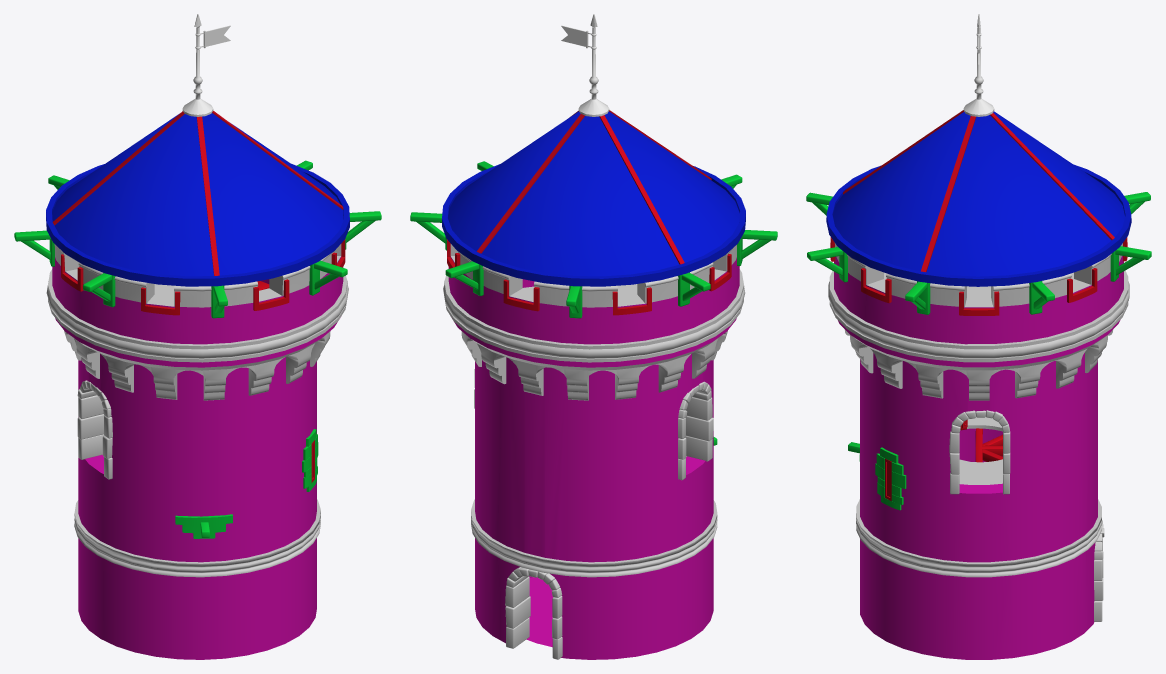
Rendered from Tower_1.fbx.
3 views of the same model, side by side, from view 1: azimuth 30°, elevation 25°; view 2: azimuth 150°, elevation 25°; view 3: azimuth 270°, elevation 25° (orthographic).
Parts seen in each view (by area): view 1: Tower_1.004, Group_4.010, Group_4.011, Group_2, Group_2.007; view 2: Tower_1.004, Group_4.010, Group_4.011; view 3: Tower_1.004, Group_4.010, Cylinder.002, Group_2.007, Group_4.011.
Boxes of the visible parts, x1,y1,x2,y2 form: Tower_1.004: (46, 239, 348, 659); Group_4.010: (14, 111, 381, 318); Group_4.011: (182, 14, 230, 116); Group_2: (175, 514, 232, 538); Group_2.007: (302, 429, 318, 491); Tower_1.004: (443, 239, 745, 659); Group_4.010: (410, 110, 777, 318); Group_4.011: (561, 14, 609, 116); Tower_1.004: (828, 237, 1129, 659); Group_4.010: (806, 110, 1151, 314); Cylinder.002: (884, 272, 1073, 484); Group_2.007: (875, 447, 906, 510); Group_4.011: (963, 14, 994, 116).
Size of the model in its own units: 933 by 1774 by 933.
